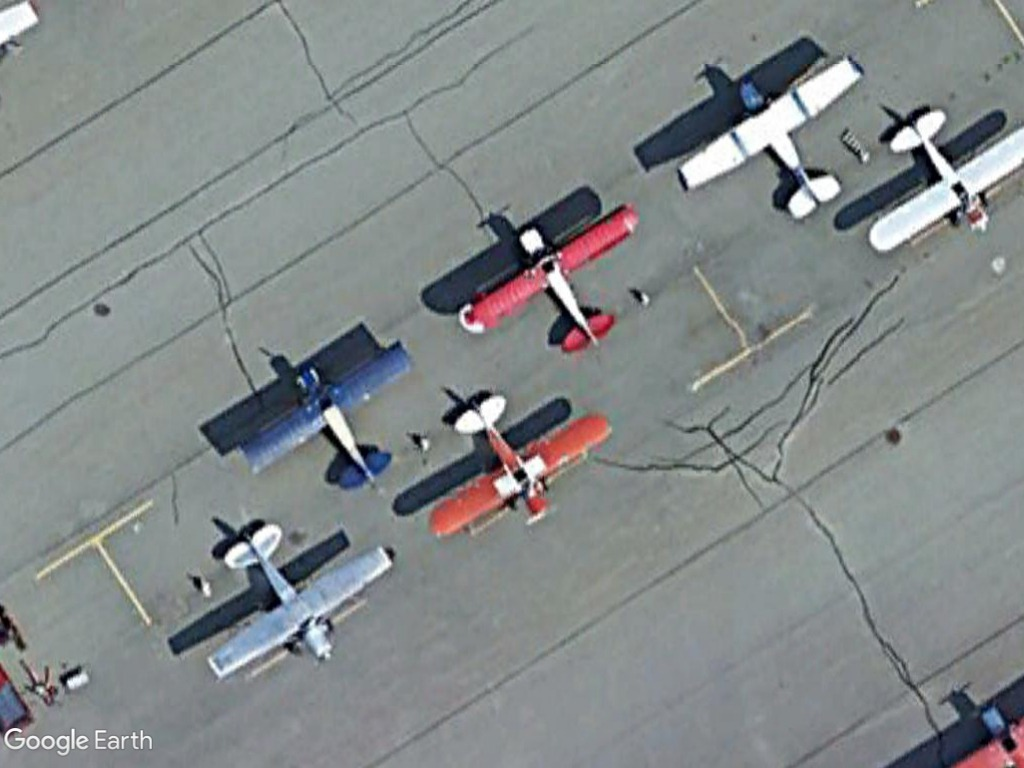trainer: (192, 516, 400, 686), (666, 53, 868, 225), (414, 386, 614, 547), (451, 200, 647, 361), (236, 337, 419, 495), (859, 101, 1023, 264)
